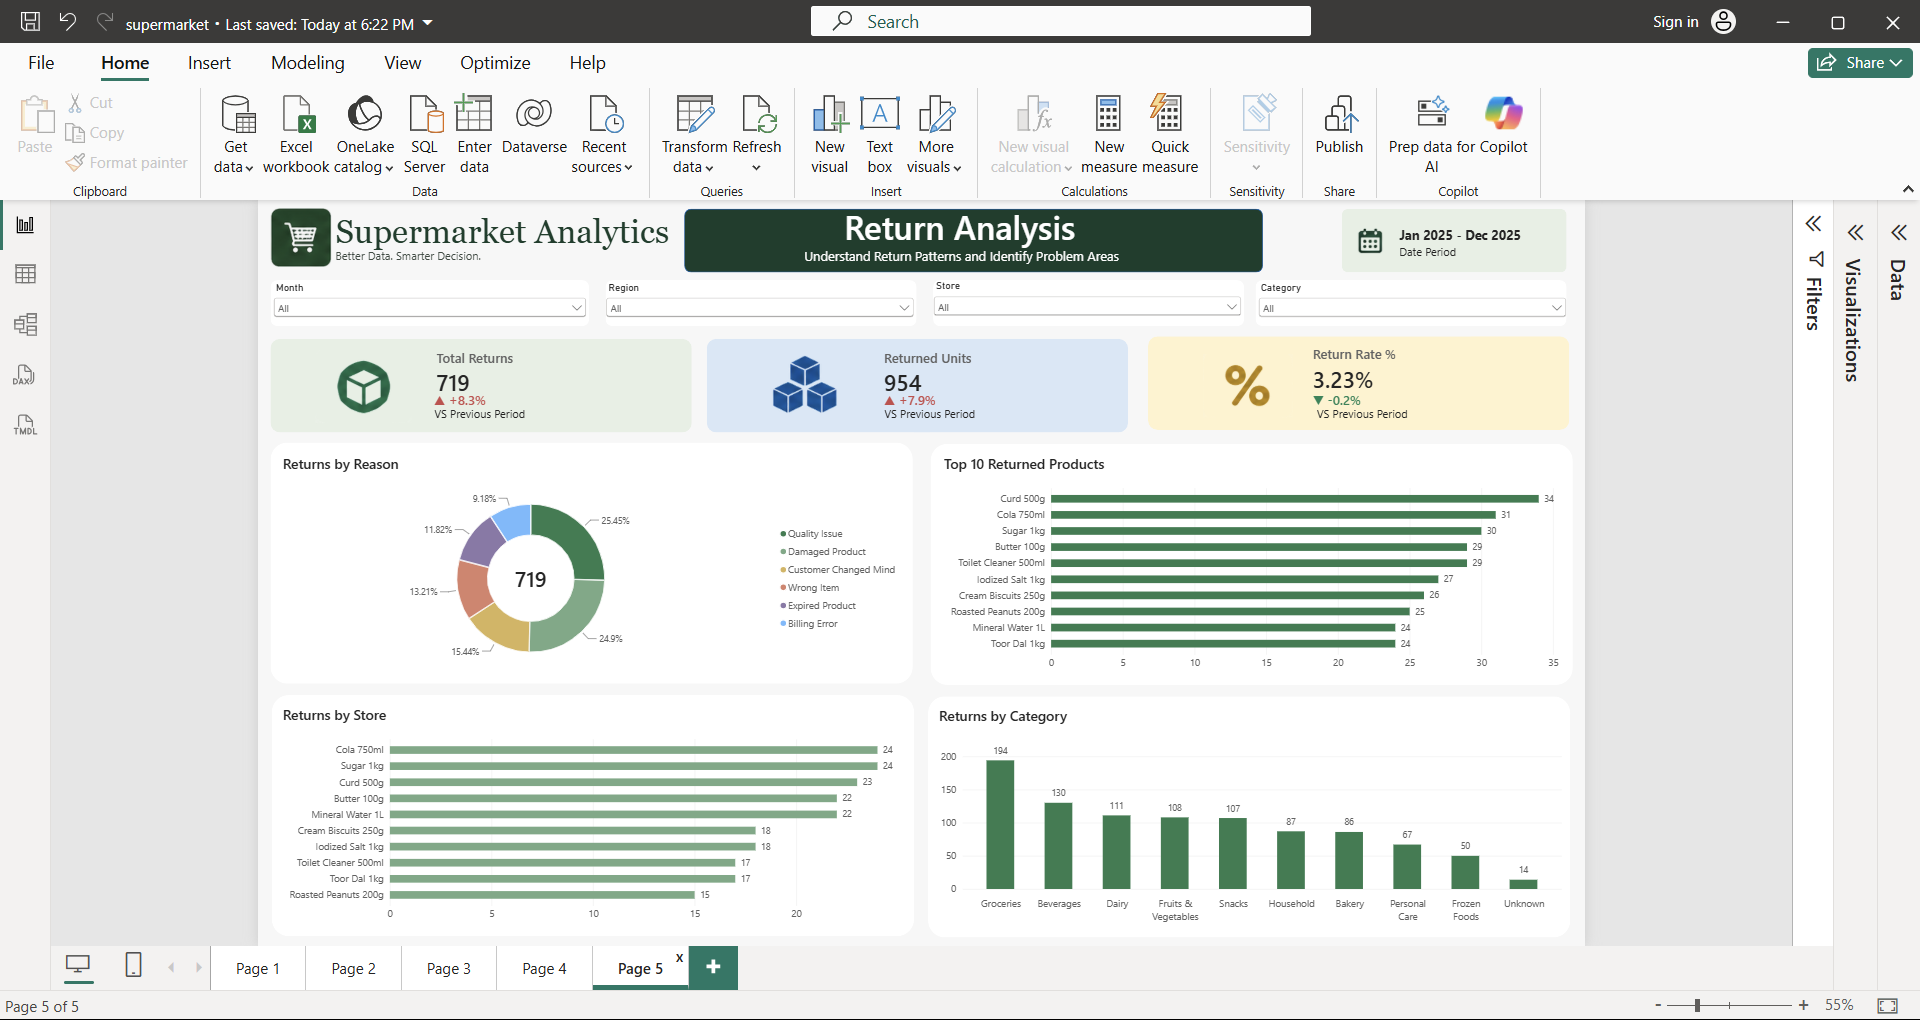

Layout of this report page (visuals, bound fields, positions):
{"tool":"powerbi","page":{"name":"Page 5","canvas":[1920,1080],"ordinal":4},"visuals":[{"type":"image","box":[0,0,124.9,108.6],"z":0},{"type":"textbox","box":[112.2,19,504.9,63.3],"z":1},{"type":"textbox","box":[112.2,69,504.9,30.8],"z":2},{"type":"shape","box":[617.1,12.7,837.9,92.3],"z":3},{"type":"textbox","box":[848.7,5,336.6,67],"z":4},{"type":"textbox","box":[790,69,528.4,48.9],"z":5},{"type":"shape","box":[1569,12.7,325.7,92.3],"z":6},{"type":"image","box":[1569,34.4,83.2,48.9],"z":7},{"type":"textbox","box":[1652.2,38,204.5,177.3],"z":8},{"type":"shape","box":[18.1,115.8,461.5,67],"z":9},{"type":"shape","box":[503.1,115.8,450.6,67],"z":10},{"type":"shape","box":[977.2,115.8,450.6,67],"z":11},{"type":"shape","box":[1444.1,115.8,450.6,67],"z":12},{"type":"slicer","fields":{"Values":["DateTable.Month"]},"box":[18.1,117.6,461.5,65.1],"z":13},{"type":"slicer","fields":{"Values":["stores.Region"]},"box":[499.5,117.6,454.2,65.1],"z":14},{"type":"slicer","fields":{"Values":["stores.StoreName"]},"box":[973.6,115.8,454.2,65.1],"z":15},{"type":"slicer","fields":{"Values":["vw_products_clean.Category"]},"box":[1444.1,117.6,454.2,65.1],"z":16},{"type":"shape","box":[18.1,200.9,610,135.7],"z":17},{"type":"shape","box":[650,200.9,610,135.7],"z":18},{"type":"shape","box":[1288.5,197.3,610,135.7],"z":19},{"type":"image","box":[30.8,168.3,244.3,202.7],"z":20},{"type":"cardVisual","fields":{"Data":["All_Measures.Total Returns"]},"box":[242.5,182.8,244.3,137.5],"z":21},{"type":"cardVisual","fields":{"Data":["All_Measures.Returns Growth Label"]},"box":[238,264,123.1,50.7],"z":22},{"type":"textbox","box":[255,299,162.9,41.6],"z":23},{"type":"image","box":[691.3,197.3,199.1,139.3],"z":24},{"type":"cardVisual","fields":{"Data":["All_Measures.Returned Units"]},"box":[890.4,182.8,244.3,137.5],"z":25},{"type":"cardVisual","fields":{"Data":["All_Measures.Returned Units Growth Label"]},"box":[890.4,264,123.1,50.7],"z":26},{"type":"textbox","box":[906.6,298.6,161.1,25.3],"z":27},{"type":"image","box":[1333.7,173.7,199.1,190],"z":28},{"type":"cardVisual","fields":{"Data":["All_Measures.Return Rate %"]},"box":[1511.1,177.3,244.3,137.5],"z":29},{"type":"cardVisual","fields":{"Data":["All_Measures.Return Rate Change Label"]},"box":[1511.1,264.2,123.1,50.7],"z":30},{"type":"textbox","box":[1532.8,298.6,186.4,25.3],"z":31},{"type":"shape","box":[18.1,351.1,930,349.3],"z":32},{"type":"shape","box":[973.6,352.9,930,349.3],"z":33},{"type":"shape","box":[19.9,716.6,930,349.3],"z":34},{"type":"shape","box":[970,718.4,930,349.3],"z":35},{"type":"donutChart","title":"Returns by Reason","fields":{"Category":["vw_returns_clean.ReturnReason"],"Y":["All_Measures.Total Returns"]},"box":[19.9,352.9,928,347.5],"z":36},{"type":"barChart","title":"Top 10 Returned Products","fields":{"Category":["vw_products_clean.ProductName"],"Y":["All_Measures.Returned Units"]},"box":[977.2,352.9,922.9,347.5],"z":37},{"type":"barChart","title":"Returns by Store","fields":{"Category":["vw_products_clean.ProductName"],"Y":["All_Measures.Total Returns"]},"box":[19.9,716.6,922.9,347.5],"z":38},{"type":"columnChart","title":"Returns by Category","fields":{"Category":["vw_products_clean.Category"],"Y":["All_Measures.Returned Units"]},"box":[970,718.4,933.8,345.6],"z":39}]}

Visuals, with their boxes on the page's 1920x1080 design canvas (x1, y1, x2, y2). These are canvas units, not pixel positions in the 1920x1020 screenshot, which may show the page scaled, cropped or inside an application window:
image: left=0, top=0, right=125, bottom=109
textbox: left=112, top=19, right=617, bottom=82
textbox: left=112, top=69, right=617, bottom=100
shape: left=617, top=13, right=1455, bottom=105
textbox: left=849, top=5, right=1185, bottom=72
textbox: left=790, top=69, right=1318, bottom=118
shape: left=1569, top=13, right=1895, bottom=105
image: left=1569, top=34, right=1652, bottom=83
textbox: left=1652, top=38, right=1857, bottom=215
shape: left=18, top=116, right=480, bottom=183
shape: left=503, top=116, right=954, bottom=183
shape: left=977, top=116, right=1428, bottom=183
shape: left=1444, top=116, right=1895, bottom=183
slicer - DateTable.Month: left=18, top=118, right=480, bottom=183
slicer - stores.Region: left=500, top=118, right=954, bottom=183
slicer - stores.StoreName: left=974, top=116, right=1428, bottom=181
slicer - vw_products_clean.Category: left=1444, top=118, right=1898, bottom=183
shape: left=18, top=201, right=628, bottom=337
shape: left=650, top=201, right=1260, bottom=337
shape: left=1288, top=197, right=1898, bottom=333
image: left=31, top=168, right=275, bottom=371
cardVisual - All_Measures.Total Returns: left=242, top=183, right=487, bottom=320
cardVisual - All_Measures.Returns Growth Label: left=238, top=264, right=361, bottom=315
textbox: left=255, top=299, right=418, bottom=341
image: left=691, top=197, right=890, bottom=337
cardVisual - All_Measures.Returned Units: left=890, top=183, right=1135, bottom=320
cardVisual - All_Measures.Returned Units Growth Label: left=890, top=264, right=1014, bottom=315
textbox: left=907, top=299, right=1068, bottom=324
image: left=1334, top=174, right=1533, bottom=364
cardVisual - All_Measures.Return Rate %: left=1511, top=177, right=1755, bottom=315
cardVisual - All_Measures.Return Rate Change Label: left=1511, top=264, right=1634, bottom=315
textbox: left=1533, top=299, right=1719, bottom=324
shape: left=18, top=351, right=948, bottom=700
shape: left=974, top=353, right=1904, bottom=702
shape: left=20, top=717, right=950, bottom=1066
shape: left=970, top=718, right=1900, bottom=1068
"Returns by Reason" donutChart: left=20, top=353, right=948, bottom=700
"Top 10 Returned Products" barChart: left=977, top=353, right=1900, bottom=700
"Returns by Store" barChart: left=20, top=717, right=943, bottom=1064
"Returns by Category" columnChart: left=970, top=718, right=1904, bottom=1064
